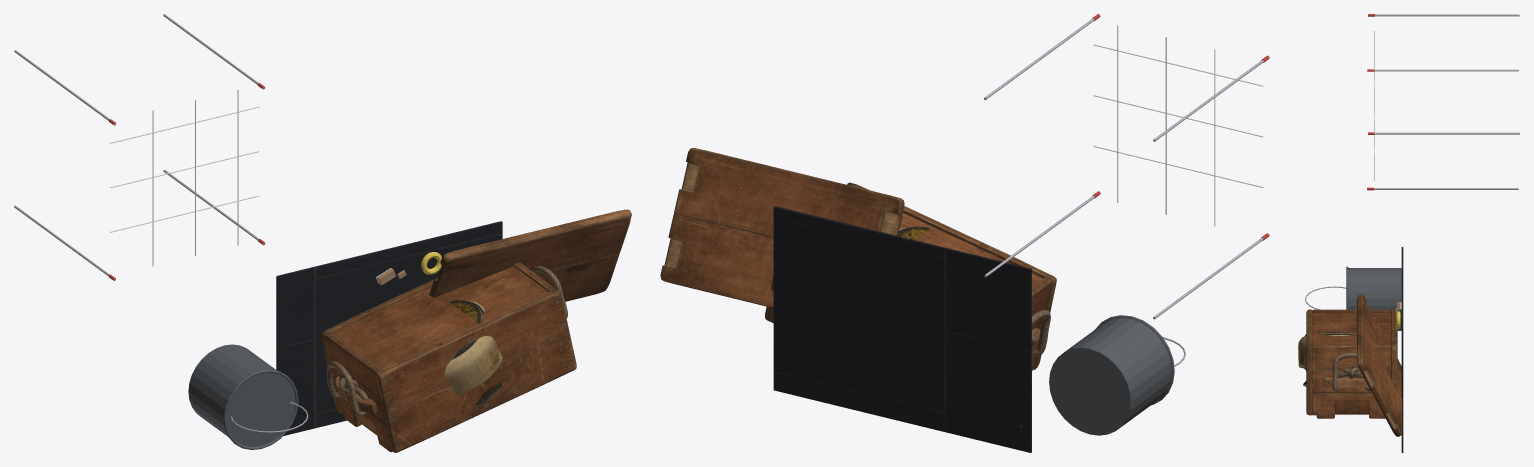
File: dig_site_equipmentpad.glb
3 renders of one model, left to right at view 1: azimuth 30°, elevation 25°; view 2: azimuth 150°, elevation 25°; view 3: azimuth 270°, elevation 25°, orthographic. The views are drawn at different scales.
Parts seen in each view (by area): view 1: wooden_crate_01, PAD_mat, wooden_crate_01_lid, PAD_bucket, ceramic_pot, PAD_bucketrim; view 2: PAD_mat, wooden_crate_01_lid, PAD_bucket, wooden_crate_01; view 3: wooden_crate_01, wooden_crate_01_lid, PAD_bucket, PAD_mat, ceramic_pot, PAD_gpin0, PAD_gpin2, PAD_gpin3, PAD_gpin1.
Part boxes in pixels (x1,y1,x2,y2): wooden_crate_01: (321, 262, 576, 452); PAD_mat: (276, 221, 502, 435); wooden_crate_01_lid: (429, 209, 631, 301); PAD_bucket: (188, 344, 295, 446); ceramic_pot: (444, 300, 504, 405); PAD_bucketrim: (223, 369, 298, 449); PAD_mat: (773, 206, 1031, 452); wooden_crate_01_lid: (660, 148, 904, 308); PAD_bucket: (1049, 317, 1171, 435); wooden_crate_01: (765, 182, 1056, 370); wooden_crate_01: (1306, 309, 1397, 418); wooden_crate_01_lid: (1357, 294, 1402, 436); PAD_bucket: (1348, 268, 1401, 330); PAD_mat: (1401, 247, 1403, 452); ceramic_pot: (1298, 332, 1356, 386); PAD_gpin0: (1375, 132, 1519, 134); PAD_gpin2: (1374, 69, 1518, 71); PAD_gpin3: (1375, 14, 1519, 16); PAD_gpin1: (1374, 188, 1518, 189).
Size of the model in its own units: 1.93 by 1.36 by 0.95.
12 materials, 3 textured.
